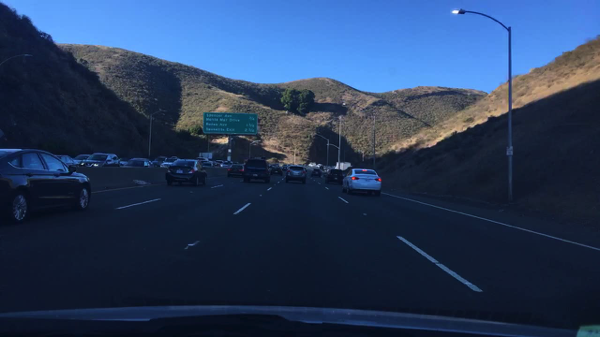car: (0, 147, 92, 224), (165, 158, 208, 188), (340, 168, 381, 196), (241, 157, 272, 184), (82, 152, 121, 167), (285, 164, 307, 184), (323, 169, 345, 185), (55, 154, 80, 166), (226, 163, 246, 178), (128, 157, 153, 167), (161, 156, 180, 168), (74, 154, 92, 166), (151, 155, 168, 167), (270, 163, 283, 176), (335, 162, 351, 170), (195, 156, 209, 165), (310, 168, 323, 177), (220, 160, 231, 168), (201, 162, 214, 168), (280, 164, 288, 171), (119, 160, 128, 166), (308, 162, 316, 167), (230, 160, 239, 164), (316, 163, 323, 168), (215, 159, 223, 163), (320, 165, 326, 170), (271, 164, 276, 168)
traffic sign: (203, 111, 258, 136), (199, 152, 213, 160)
